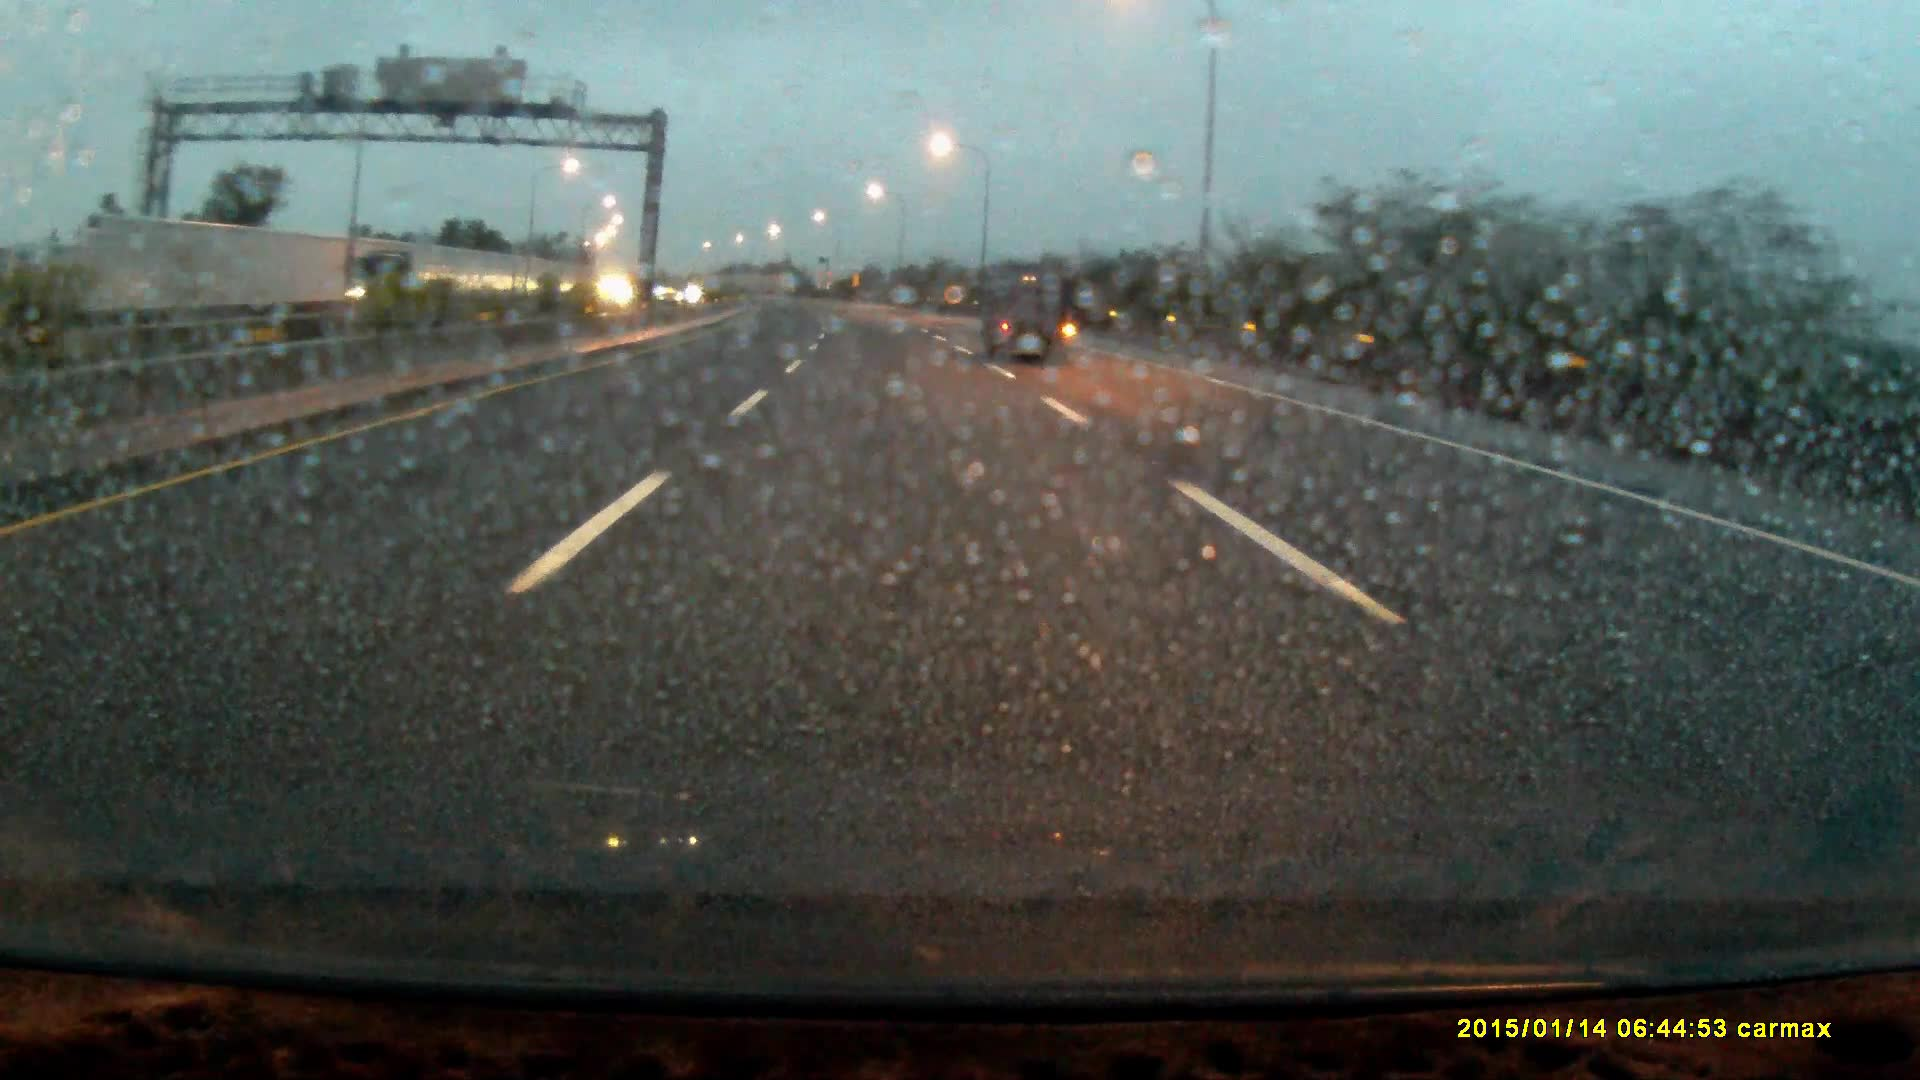vehicle: (342, 249, 464, 320), (986, 272, 1073, 365)
